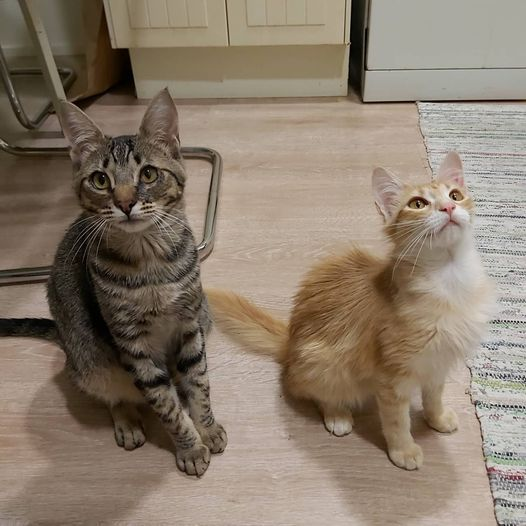cat: (250, 136, 504, 487), (36, 72, 242, 491)
